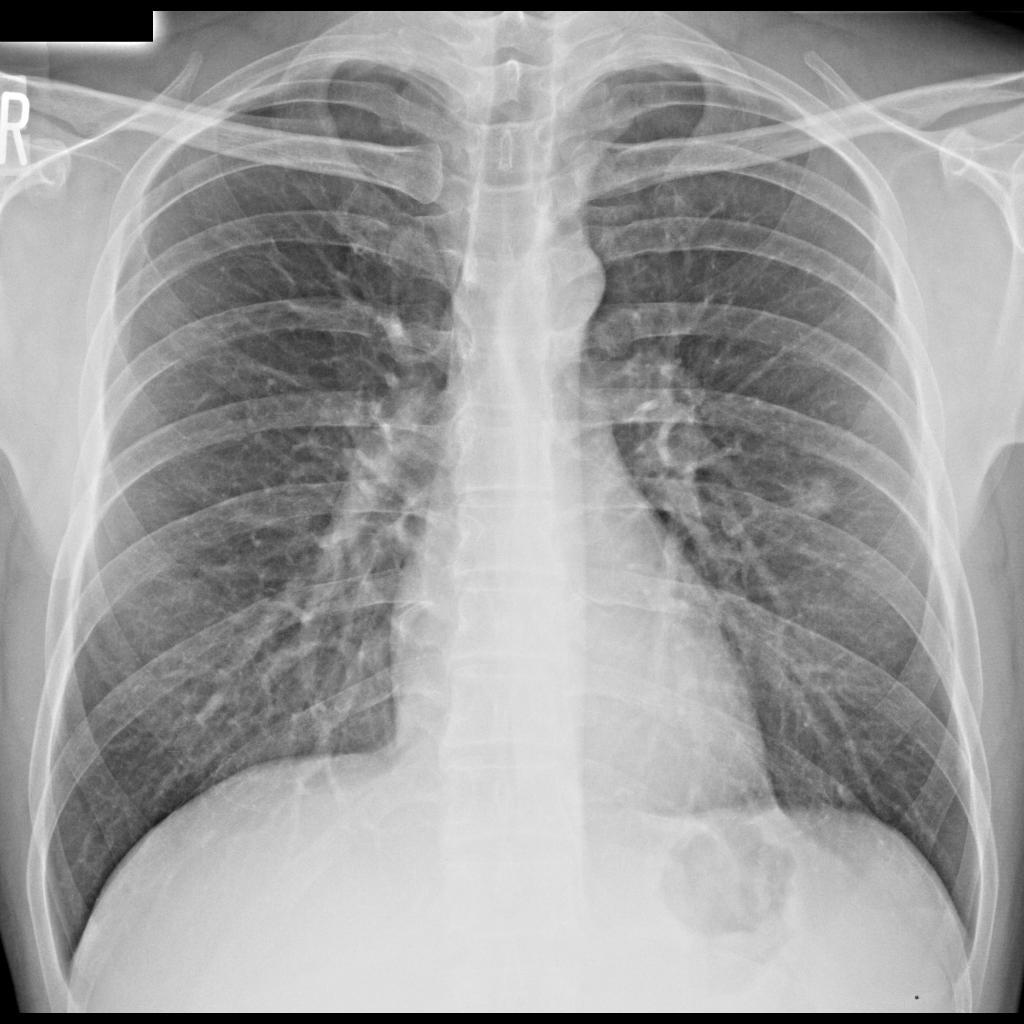Nodule: (793, 475, 836, 518)
